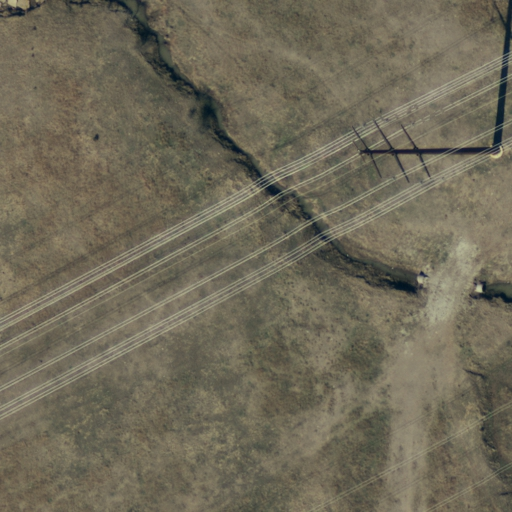TT: (345, 113, 504, 186)
